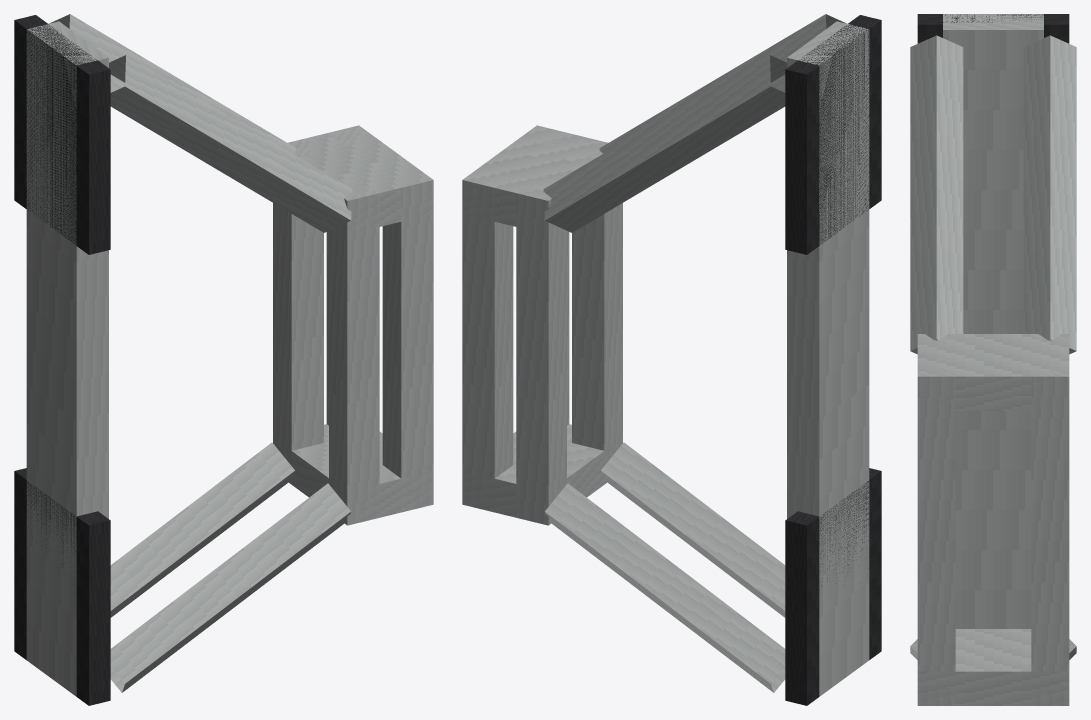
Rendered from mount_ladwp_3_left.obj.
The picture shows the model from 3 angles, left to right: view 1: azimuth 30°, elevation 25°; view 2: azimuth 150°, elevation 25°; view 3: azimuth 270°, elevation 25°; orthographic projection.
Parts seen in each view (by area): view 1: transformer_bank_mount_ladwp_3_left; view 2: transformer_bank_mount_ladwp_3_left; view 3: transformer_bank_mount_ladwp_3_left.
Boxes of the visible parts, x1,y1,x2,y2 form: transformer_bank_mount_ladwp_3_left: [14, 14, 433, 705]; transformer_bank_mount_ladwp_3_left: [462, 14, 881, 705]; transformer_bank_mount_ladwp_3_left: [910, 14, 1076, 705].
Bounding box in the file's own units: 1 × 1.77 × 0.4125.
